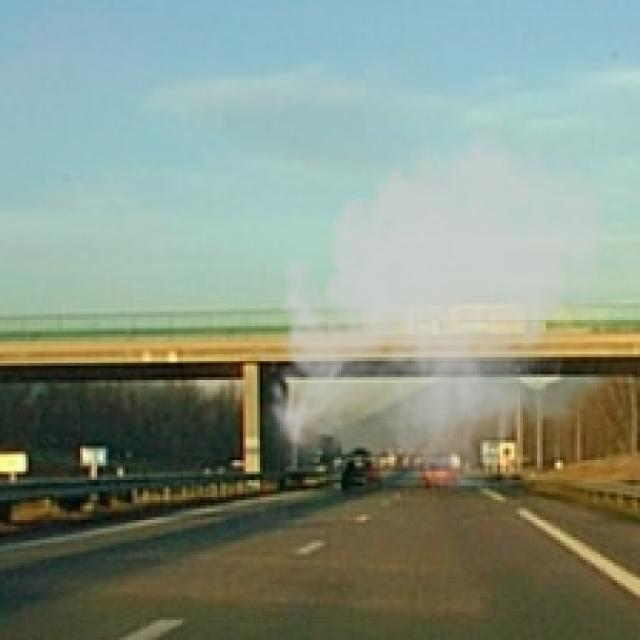smoke: (257, 114, 614, 492)
